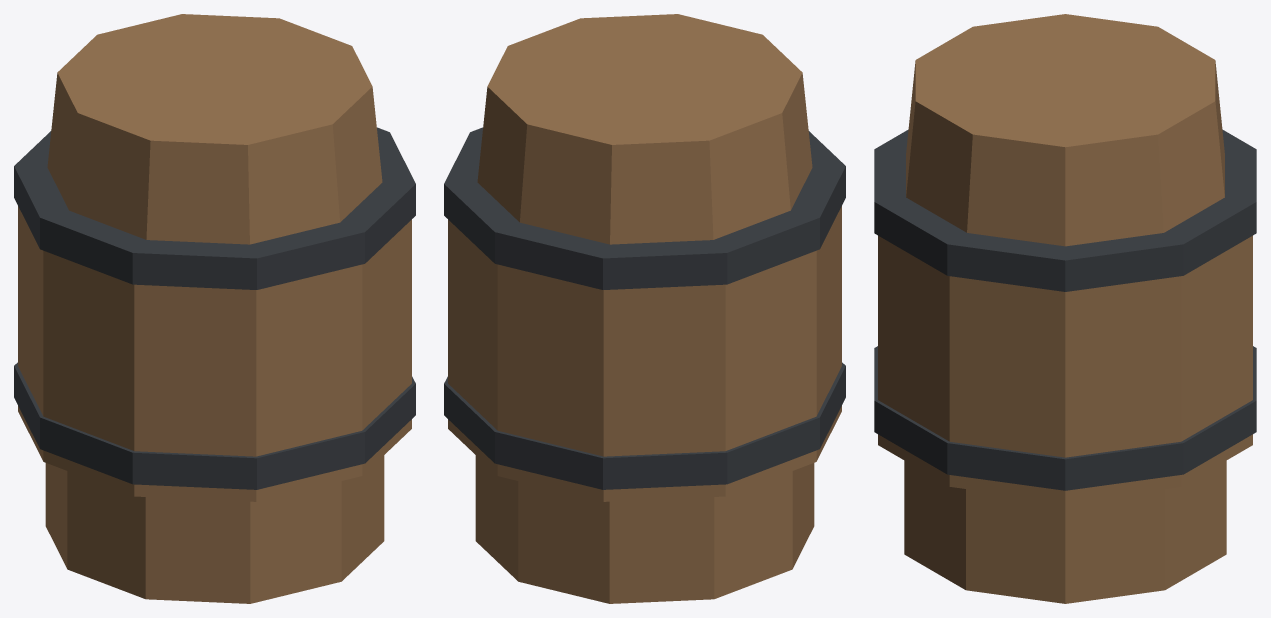
The model's file is barrel.glb.
3 views of the same model, side by side, from view 1: azimuth 30°, elevation 25°; view 2: azimuth 150°, elevation 25°; view 3: azimuth 270°, elevation 25° (orthographic).
Parts seen in each view (by area): view 1: barrel_lod0; view 2: barrel_lod0; view 3: barrel_lod0.
Part boxes in pixels (left/top/right/bottom): barrel_lod0: left=14, top=14, right=415, bottom=603; barrel_lod0: left=444, top=14, right=845, bottom=603; barrel_lod0: left=874, top=14, right=1256, bottom=603.
Size of what is drawn, in the model's own units: 0.6936 by 0.86 by 0.6597.
